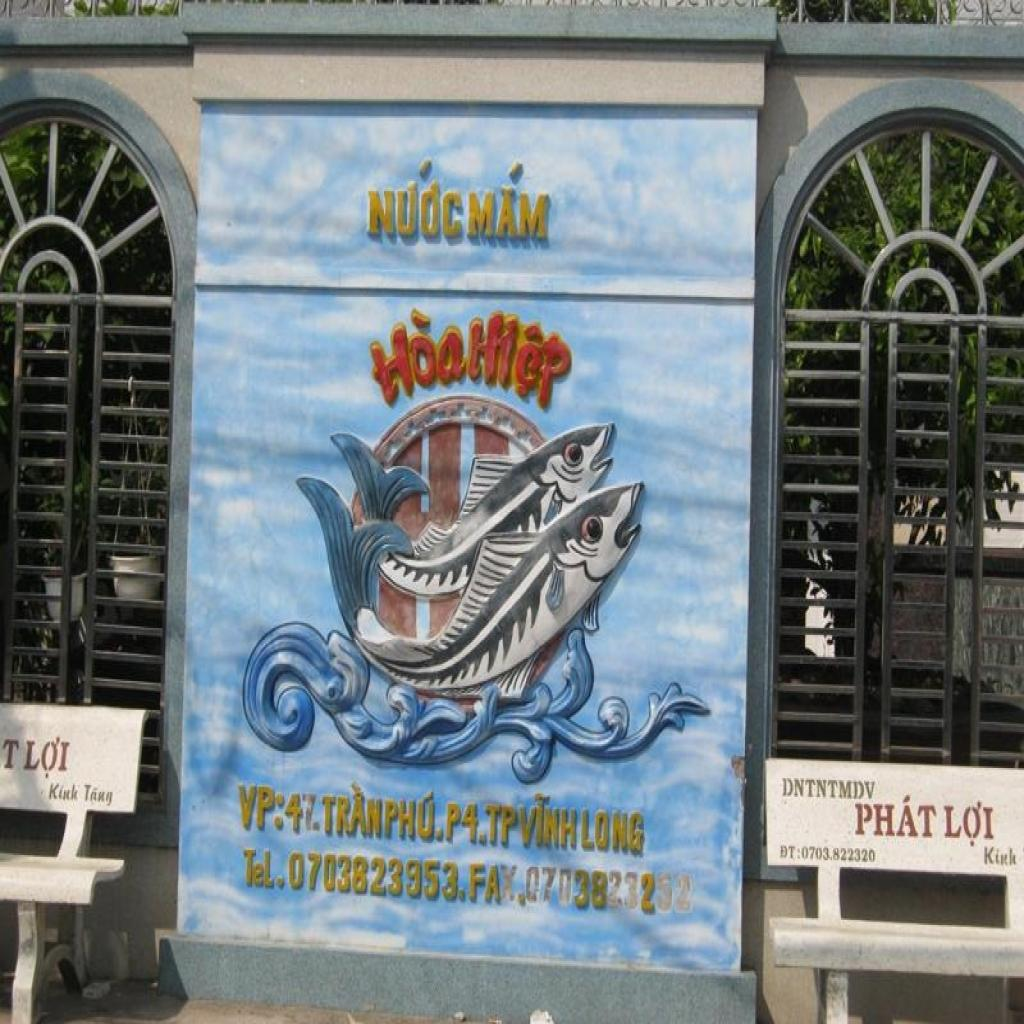text: (354, 300, 592, 425), (286, 846, 468, 908), (524, 858, 698, 920), (365, 154, 466, 248), (467, 159, 557, 254), (851, 787, 941, 843), (514, 790, 580, 857), (321, 782, 384, 844), (384, 785, 445, 848), (580, 804, 648, 860), (466, 855, 527, 910), (941, 795, 998, 850), (234, 778, 288, 836), (780, 773, 880, 804), (22, 728, 74, 782), (238, 842, 288, 894), (445, 797, 489, 848), (483, 797, 521, 855), (800, 841, 878, 867), (286, 786, 322, 840), (80, 776, 118, 810), (0, 734, 24, 775), (46, 778, 82, 804), (777, 840, 803, 864)
